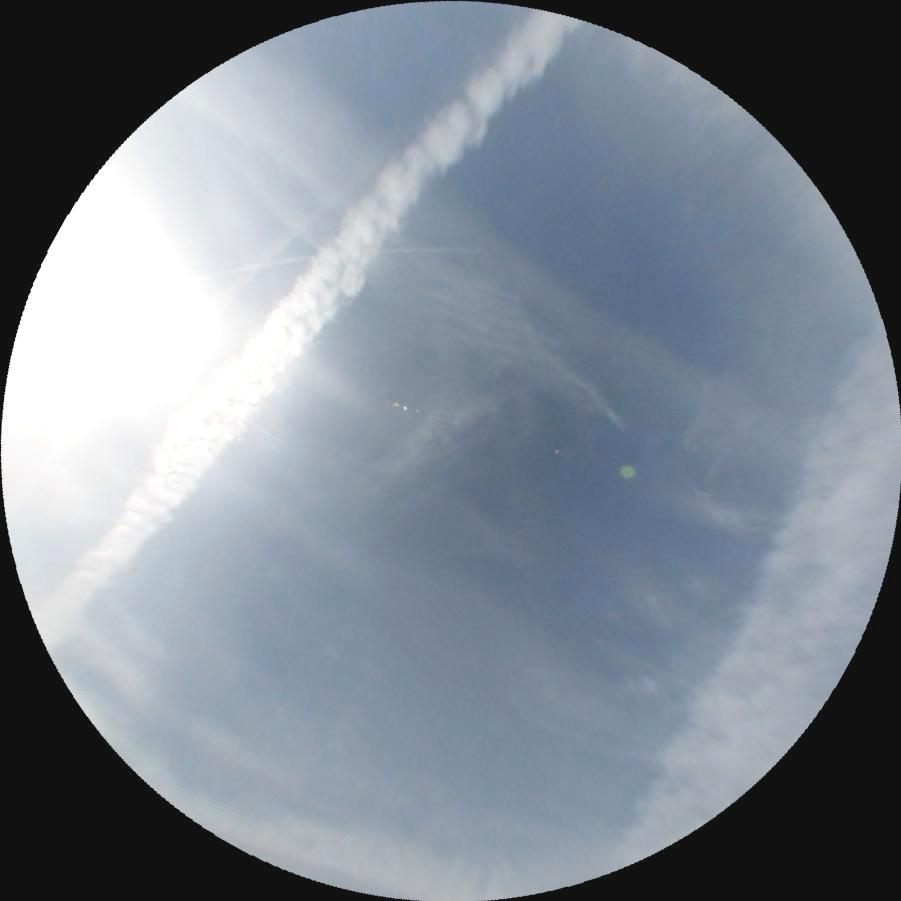contrail veryold: (7, 0, 585, 657), (169, 173, 355, 352)
contrail young: (164, 235, 489, 283)
parasite: (149, 358, 281, 442)
sun: (0, 201, 200, 412)
unknow: (207, 33, 816, 484)
